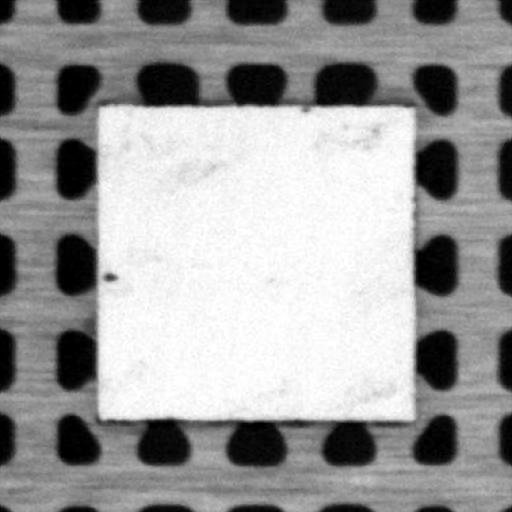DIE_INK: (346, 120, 388, 150), (346, 382, 394, 406), (177, 157, 214, 182), (115, 118, 136, 156), (104, 266, 116, 284)
